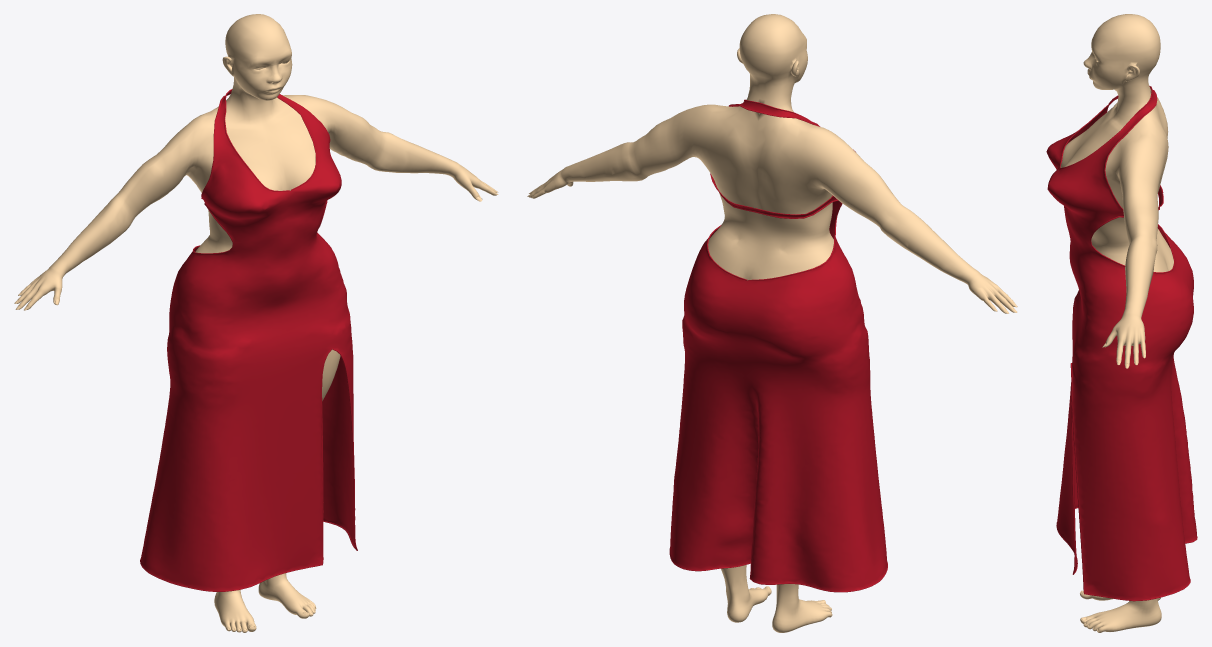
The model's file is dress3.glb.
3 renders of one model, left to right at view 1: azimuth 30°, elevation 25°; view 2: azimuth 150°, elevation 25°; view 3: azimuth 270°, elevation 25°, orthographic.
Parts seen in each view (by area): view 1: EveningDress, Body; view 2: EveningDress, Body; view 3: EveningDress, Body.
Part boxes in pixels (x1,y1,x2,y2): EveningDress: [140, 89, 357, 591]; Body: [17, 14, 497, 632]; EveningDress: [669, 99, 887, 592]; Body: [529, 14, 1014, 632]; EveningDress: [1046, 86, 1197, 601]; Body: [1060, 14, 1173, 632].
Size of the model in its own units: 1.58 by 1.85 by 0.4261.
